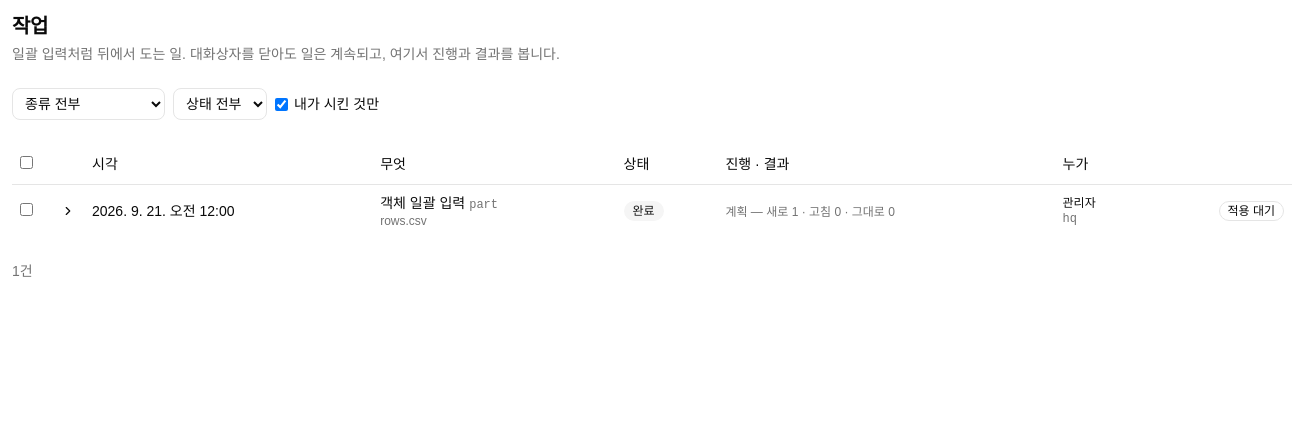
Scenario: 작업 화면 › 줄 목록이 다 실린 결과는 상세를 다시 읽지 않는다
Click the button named "펼치기" at (68, 210), box [52,198,84,222]
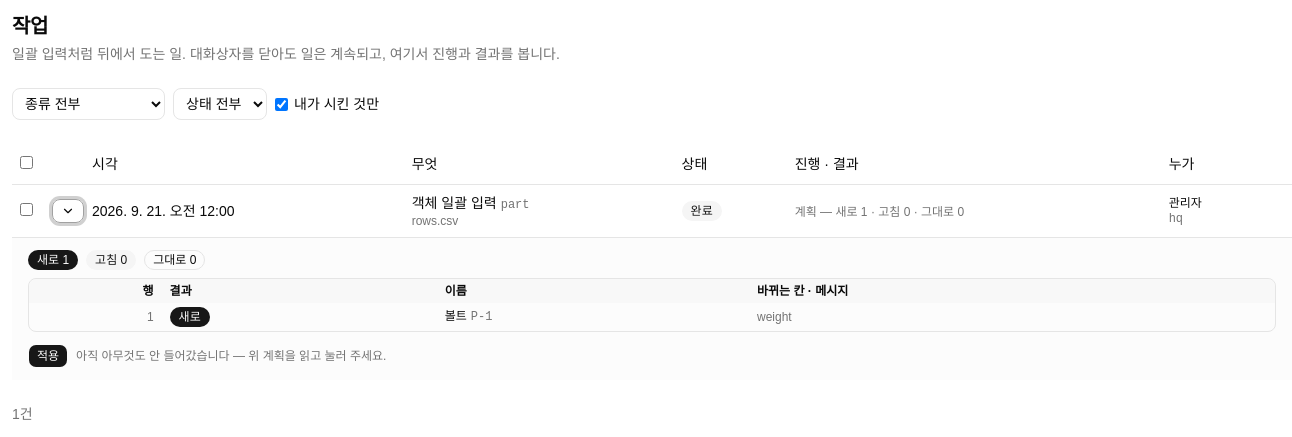
Expected: the text "볼트" is shown, [445,309,467,323]
